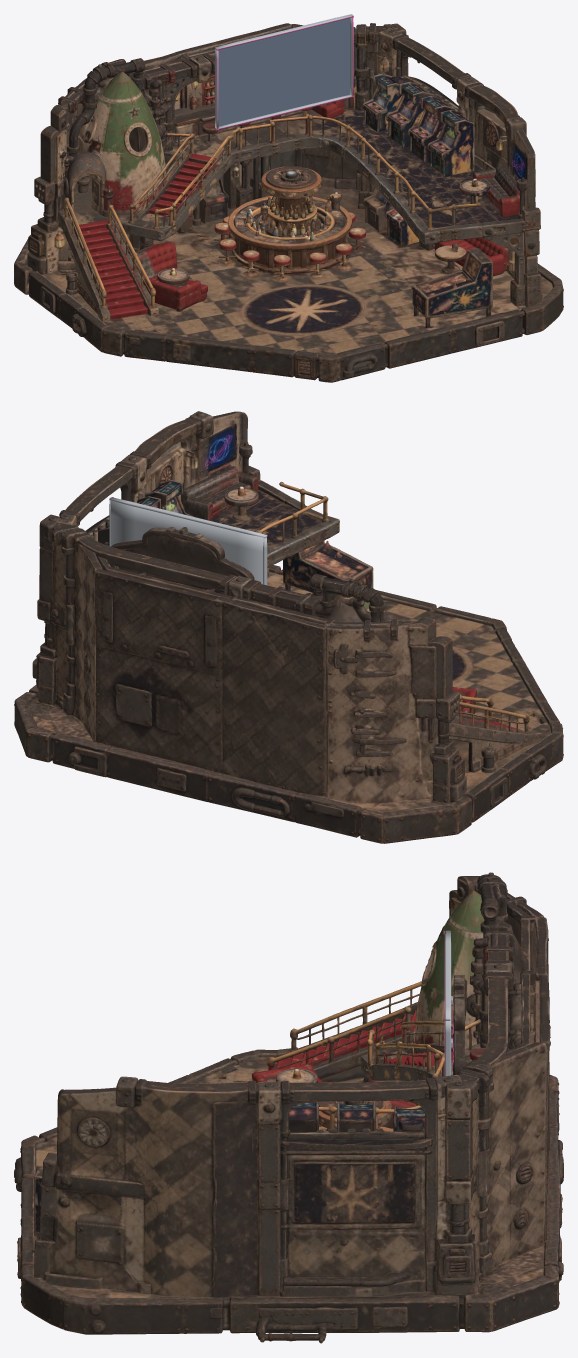
The model's file is kfb-meshy-retro-arcade-casino.screen-a.v3.glb.
The picture shows the model from 3 angles, top to bottom: view 1: azimuth 30°, elevation 25°; view 2: azimuth 150°, elevation 25°; view 3: azimuth 270°, elevation 25°; orthographic projection. The views are drawn at different scales.
Parts seen in each view (by area): view 1: retro_arcade_casino, kfb_screen_slot, kfb_screen_frame; view 2: retro_arcade_casino, kfb_screen_frame; view 3: retro_arcade_casino, kfb_screen_frame.
Part boxes in pixels (left/top/right/bottom): retro_arcade_casino: left=14, top=23, right=563, bottom=382; kfb_screen_slot: left=218, top=18, right=350, bottom=126; kfb_screen_frame: left=215, top=14, right=353, bottom=130; retro_arcade_casino: left=14, top=411, right=563, bottom=843; kfb_screen_frame: left=109, top=497, right=267, bottom=585; retro_arcade_casino: left=14, top=872, right=563, bottom=1343; kfb_screen_frame: left=444, top=930, right=452, bottom=1076.
Size of the model in its own units: 1.9 by 0.8947 by 1.64.
4 materials, 1 textured.
